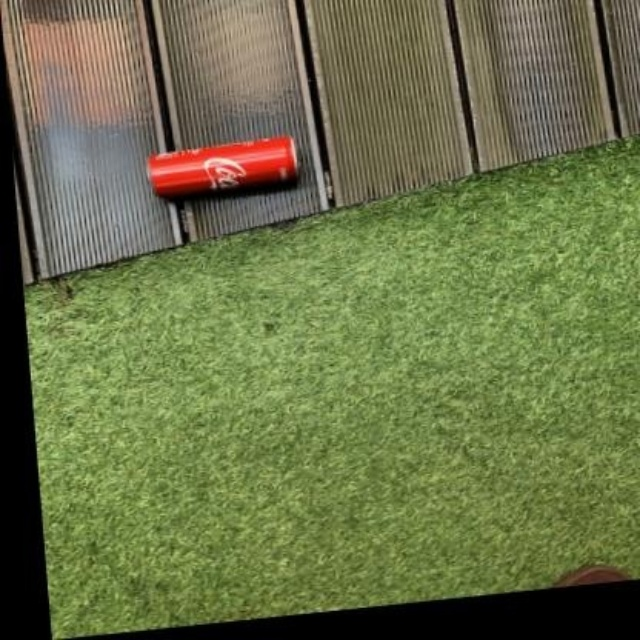trash: (148, 135, 295, 197)
